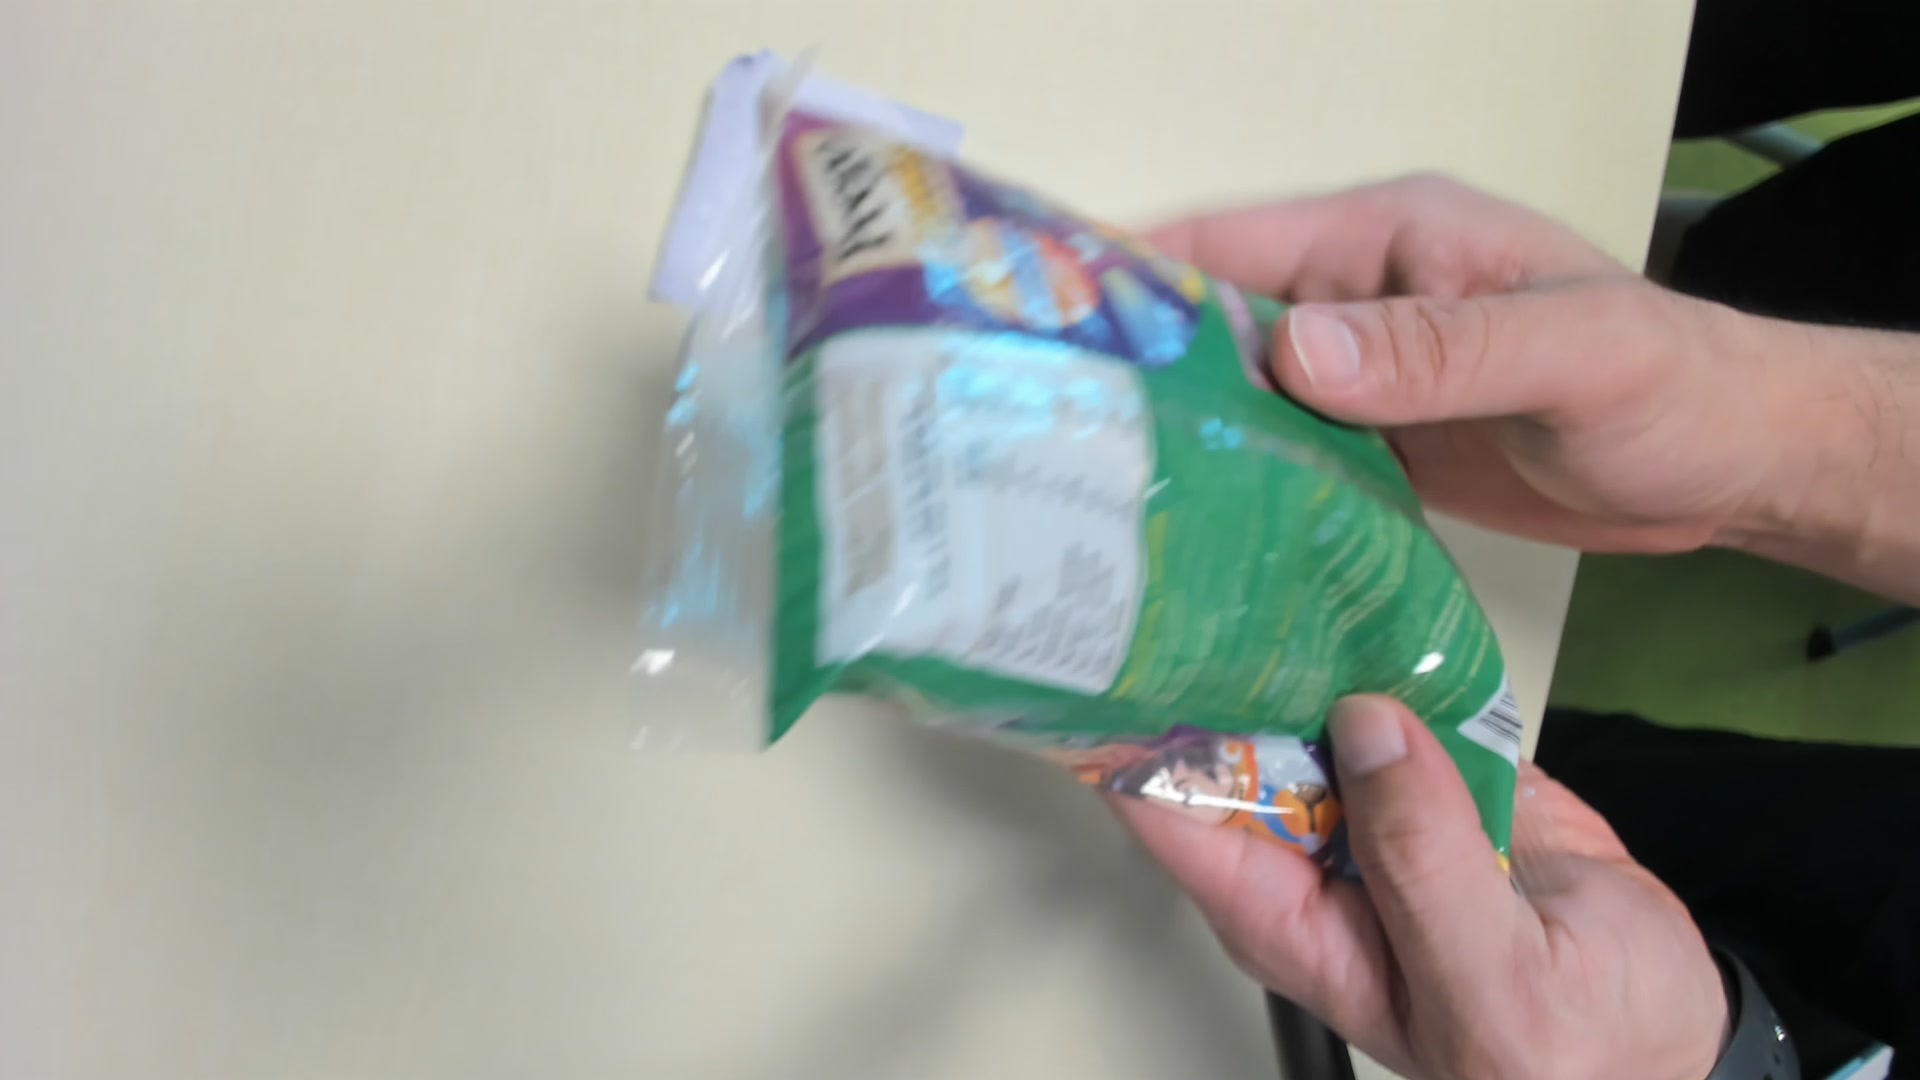Pasta_200-299g_Halal_NonHealthy: (698, 99, 1513, 868)
